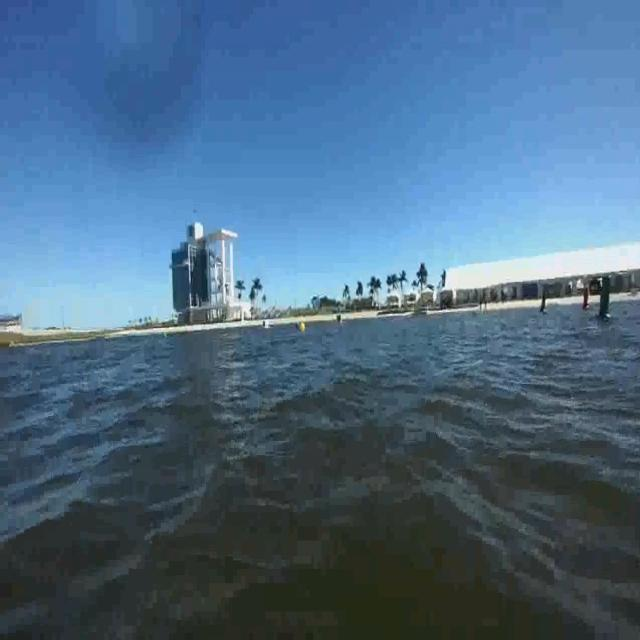green-column-buoy: (596, 272, 615, 321)
red-column-buoy: (580, 285, 591, 311)
yellow-buoy: (298, 320, 305, 334)
